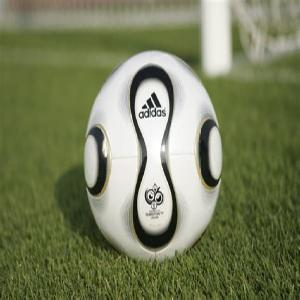Football: (83, 49, 222, 264)
